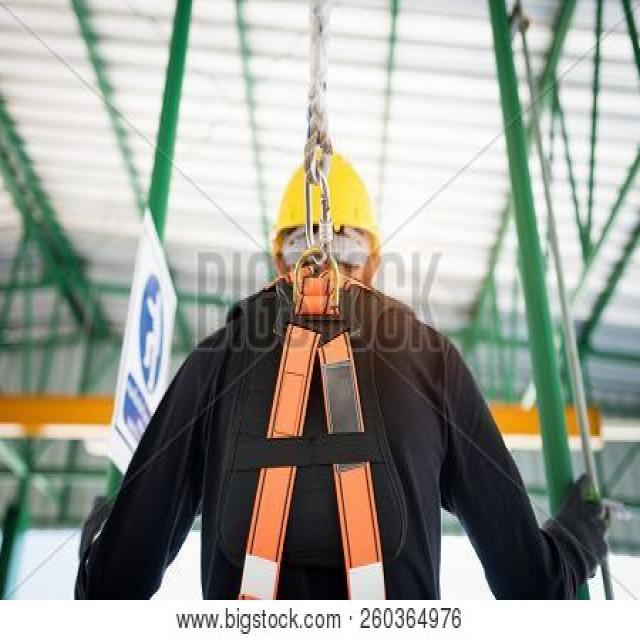belt: (245, 283, 408, 566)
